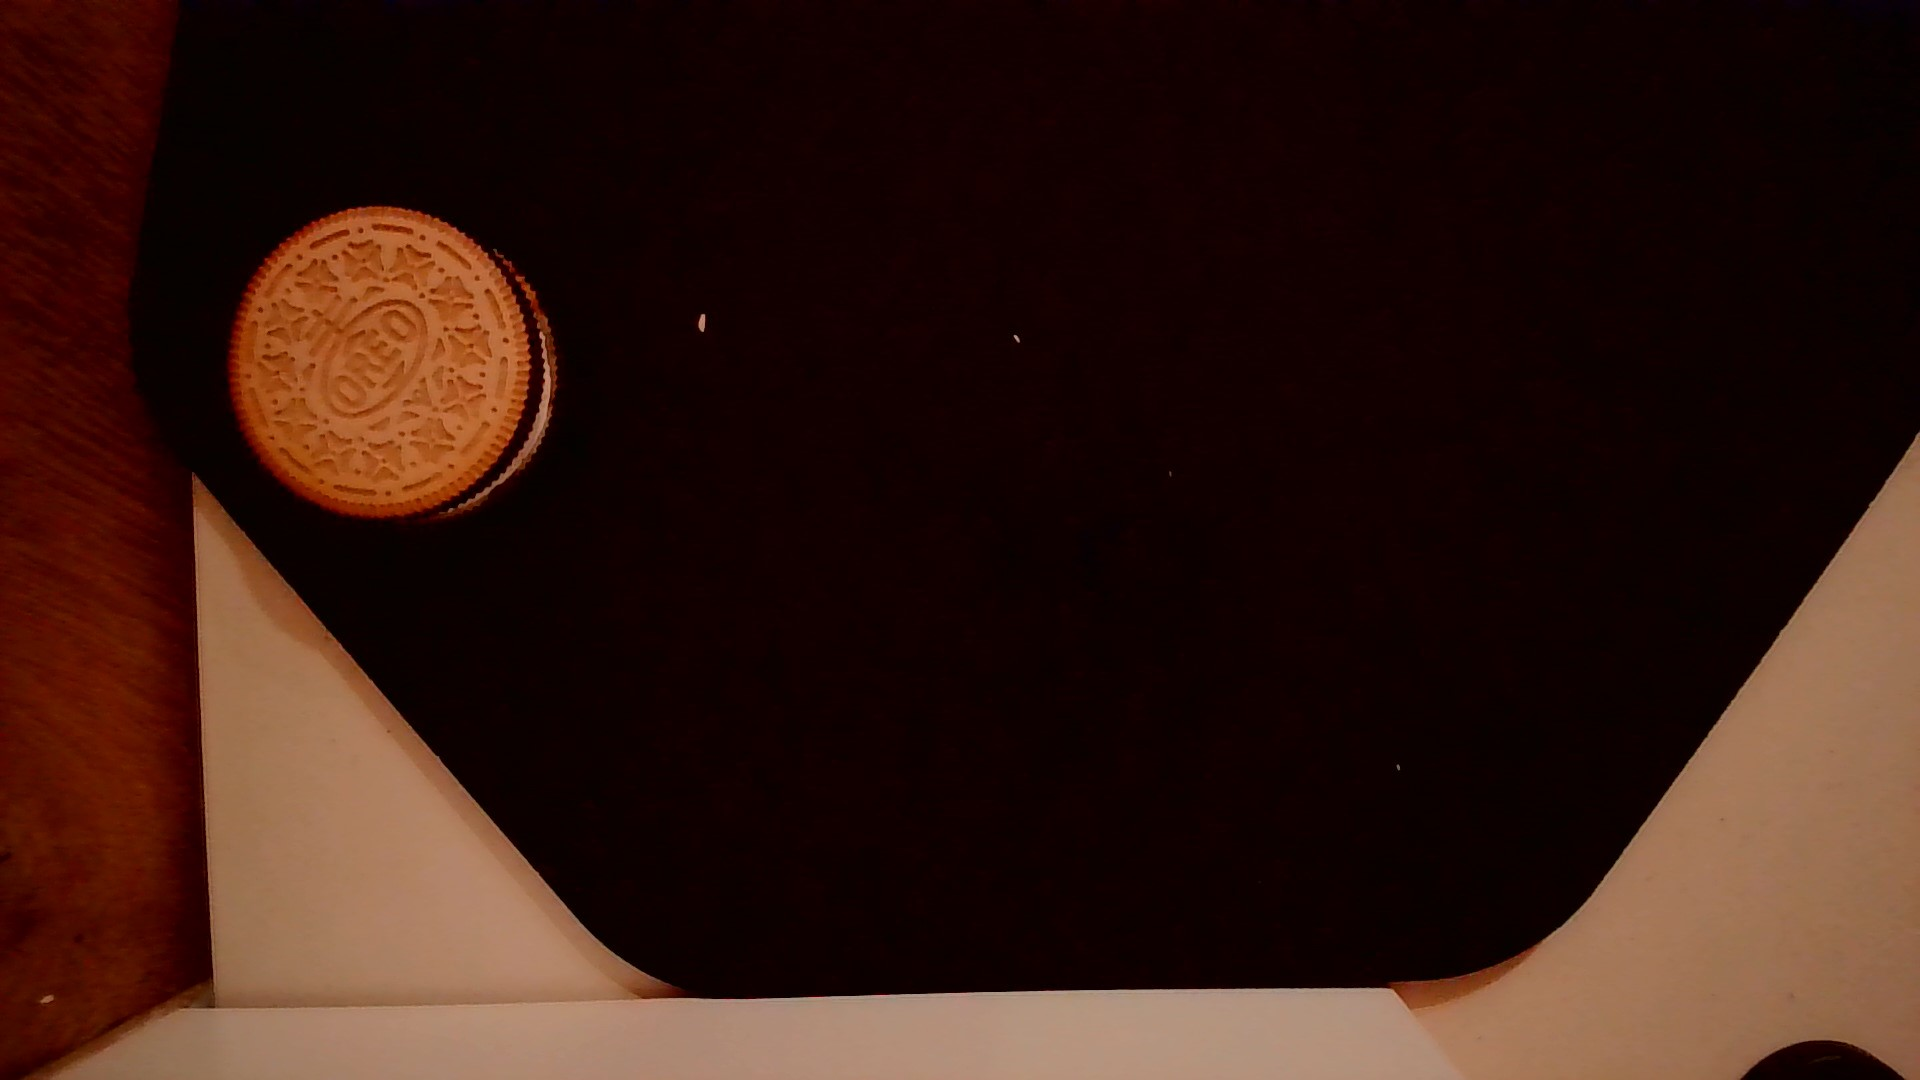Oréo: (215, 196, 563, 530)
